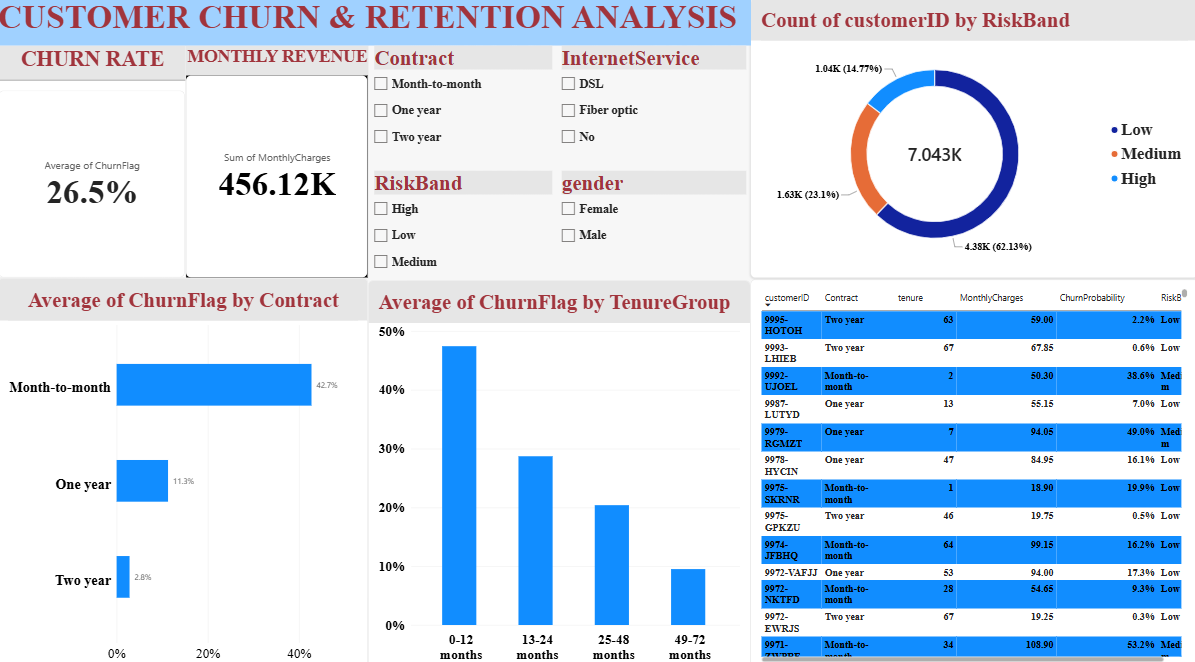

Layout of this report page (visuals, bound fields, positions):
{"tool":"powerbi","page":{"name":"Page 1","canvas":[1920,1080],"ordinal":0},"visuals":[{"type":"cardVisual","title":"MONTHLY REVENUE","fields":{"Data":["Sum(telco_scored.MonthlyCharges)"]},"box":[300.6,75.7,292.5,372.2],"z":0},{"type":"cardVisual","title":"CHURN RATE","fields":{"Data":["Avg(telco_scored.ChurnFlag)"]},"box":[0,75.7,300.6,372.2],"z":1000},{"type":"clusteredBarChart","title":"Average of ChurnFlag by Contract","fields":{"Category":["telco_scored.Contract"],"Y":["Avg(telco_scored.ChurnFlag)"]},"box":[0,448,592,632],"z":2000},{"type":"columnChart","fields":{"Category":["telco_scored.TenureGroup"],"Y":["Avg(telco_scored.ChurnFlag)"]},"box":[592,452,612,630],"z":3000},{"type":"tableEx","fields":{"Values":["telco_scored.customerID","telco_scored.Contract","telco_scored.tenure","telco_scored.MonthlyCharges","telco_scored.ChurnProbability","telco_scored.RiskBand"]},"box":[1204,450,716,630],"z":4000},{"type":"donutChart","fields":{"Category":["telco_scored.RiskBand"],"Y":["CountNonNull(telco_scored.customerID)"]},"box":[1204.6,0,715.8,447.9],"z":5000},{"type":"textbox","box":[0,0,1204.6,75.7],"z":6000},{"type":"slicer","fields":{"Values":["telco_scored.Contract"]},"box":[593.1,75.7,300.6,200.4],"z":7000},{"type":"slicer","fields":{"Values":["telco_scored.InternetService"]},"box":[893.7,75.7,310.9,200.4],"z":8000},{"type":"slicer","fields":{"Values":["telco_scored.RiskBand"]},"box":[593.1,276.1,300.6,171.8],"z":9000},{"type":"slicer","fields":{"Values":["telco_scored.gender"]},"box":[894,276,311,172],"z":10000}]}

Visuals, with their boxes in screenshot pixels (x1, y1, x2, y2), scaled from the page's 1920x1080 canvas onto the 1195x662 screenshot:
"MONTHLY REVENUE" cardVisual: <box>187,46,369,275</box>
"CHURN RATE" cardVisual: <box>0,46,187,275</box>
"Average of ChurnFlag by Contract" clusteredBarChart: <box>0,275,368,661</box>
columnChart - telco_scored.TenureGroup x Avg(telco_scored.ChurnFlag): <box>368,277,749,661</box>
tableEx - telco_scored.customerID x telco_scored.Contract: <box>749,276,1194,661</box>
donutChart - telco_scored.RiskBand x CountNonNull(telco_scored.customerID): <box>750,0,1194,275</box>
textbox: <box>0,0,750,46</box>
slicer - telco_scored.Contract: <box>369,46,556,169</box>
slicer - telco_scored.InternetService: <box>556,46,750,169</box>
slicer - telco_scored.RiskBand: <box>369,169,556,275</box>
slicer - telco_scored.gender: <box>556,169,750,275</box>
